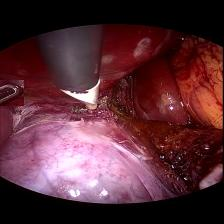Grasper: (0, 79, 24, 105)
Hook: (54, 78, 108, 114)
